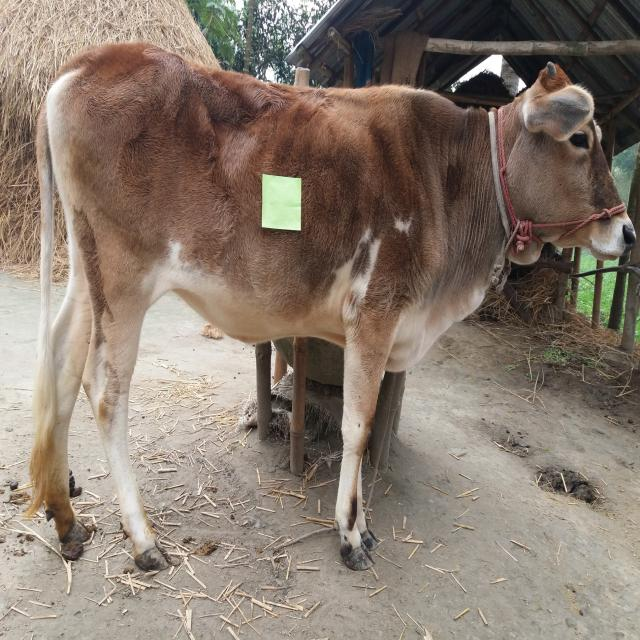badan_sapi: (44, 42, 404, 362)
sapi: (19, 32, 635, 590)
